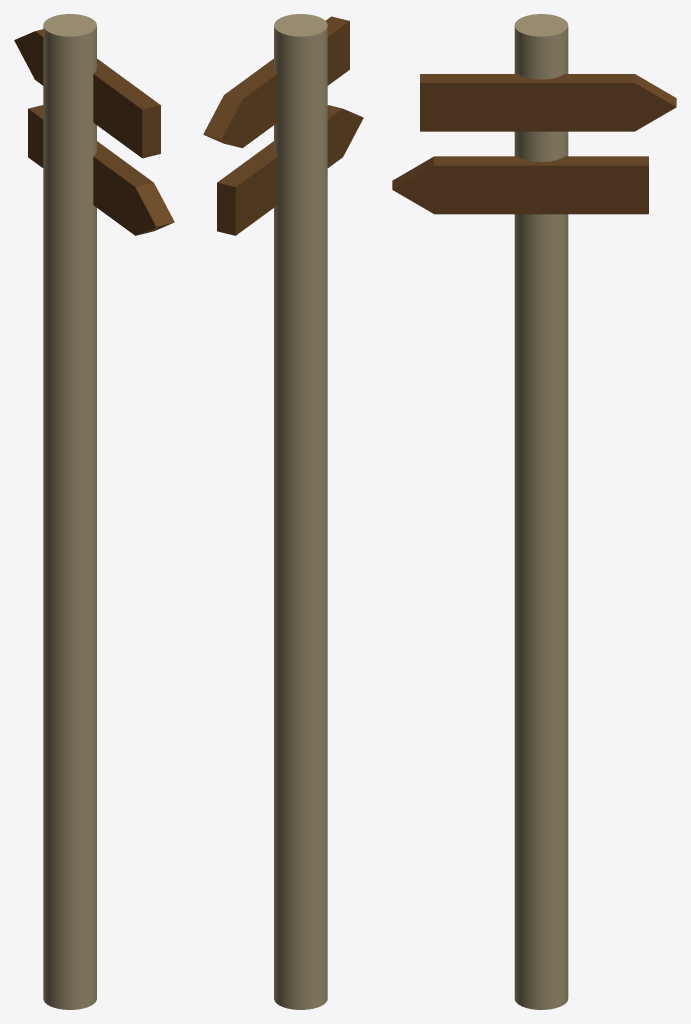
The model's file is Road Sign.fbx.
3 views of the same model, side by side, from view 1: azimuth 30°, elevation 25°; view 2: azimuth 150°, elevation 25°; view 3: azimuth 270°, elevation 25° (orthographic).
Visible parts, largest first — view 1: Road Sign; view 2: Road Sign; view 3: Road Sign.
Part boxes in pixels (bbox=[...]): Road Sign: bbox=[14, 14, 174, 1009]; Road Sign: bbox=[203, 14, 363, 1009]; Road Sign: bbox=[392, 14, 676, 1009].
Size of the model in its own units: 11.49 by 52.97 by 200.
